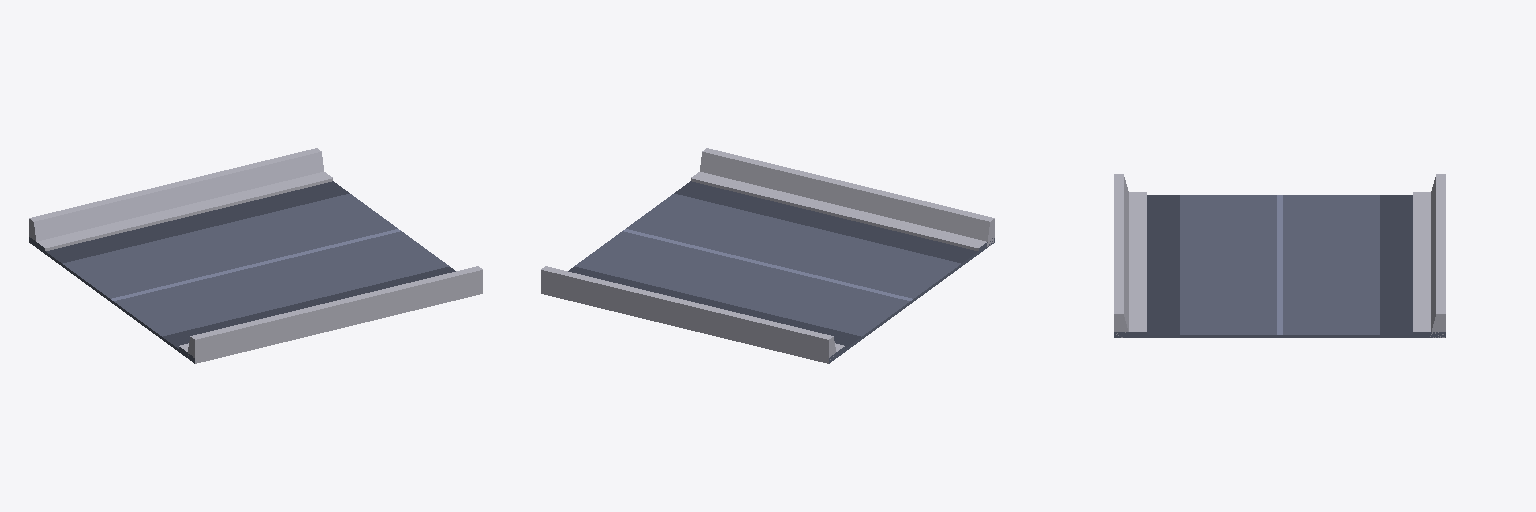
Rendered from road_straight.obj.
3 renders of one model, left to right at view 1: azimuth 30°, elevation 25°; view 2: azimuth 150°, elevation 25°; view 3: azimuth 270°, elevation 25°, orthographic.
Visible parts, largest first — view 1: road_straight, road_straightBarrier; view 2: road_straight, road_straightBarrier; view 3: road_straight, road_straightBarrier.
Part boxes in pixels (x1,y1,x2,y2): road_straight: (29,172,482,363); road_straightBarrier: (29,148,482,362); road_straight: (541,172,994,363); road_straightBarrier: (541,148,994,362); road_straight: (1114,192,1445,337); road_straightBarrier: (1114,174,1445,337).
Bounding box in the file's own units: 1 × 0.08 × 1.